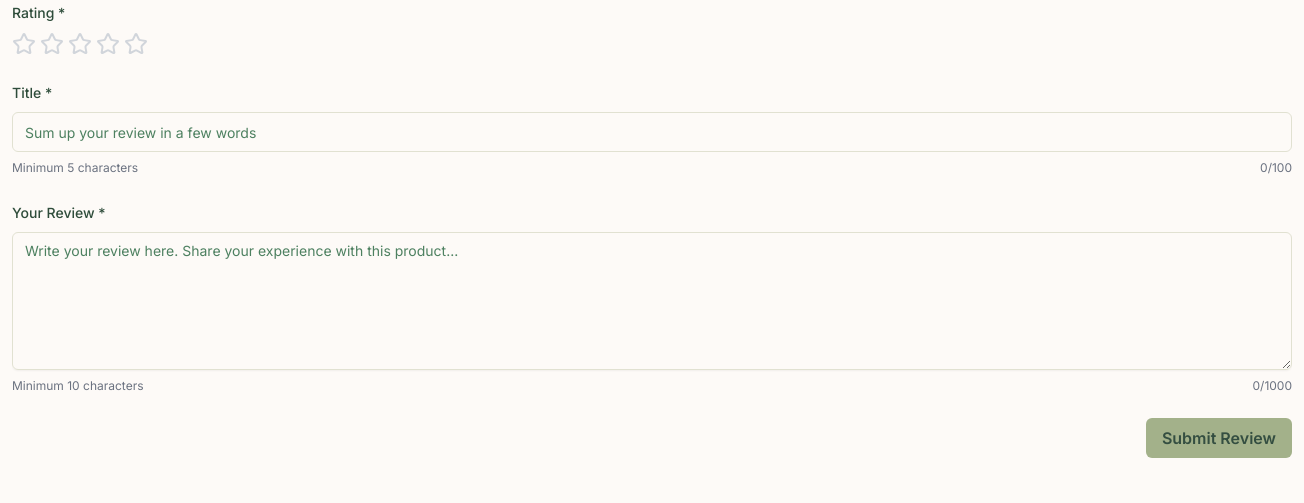
Test: ReviewForm › Create mode › should validate title length
Type "Bad" into the field with placeholder "Sum up your review in a few words" at [652, 132], box x1=12 y1=112 x2=1292 y2=152
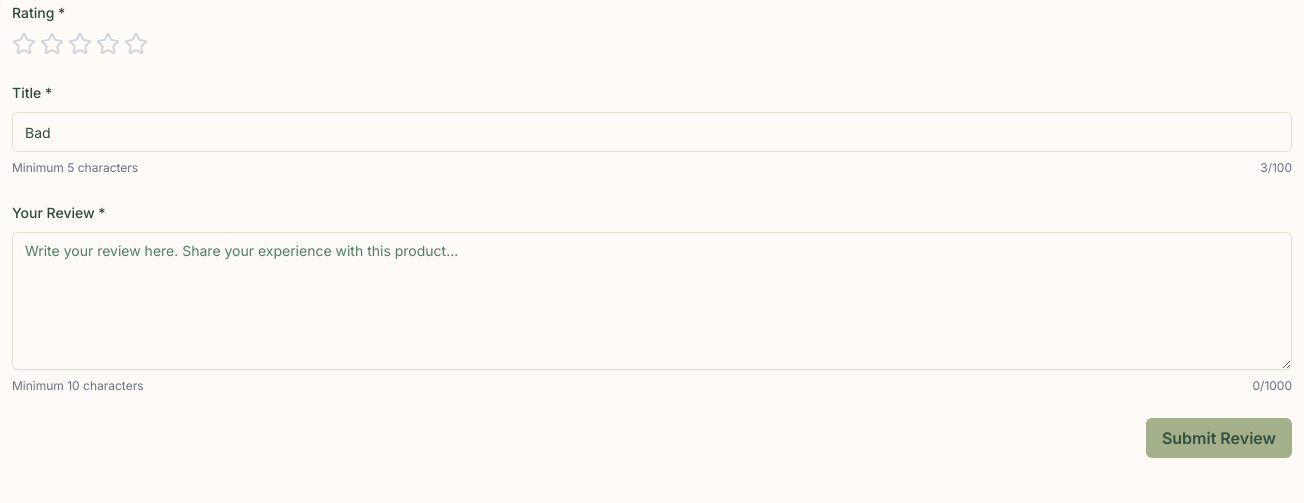
Click the button "Submit Review" at [1219, 438], box x1=1146 y1=418 x2=1292 y2=458
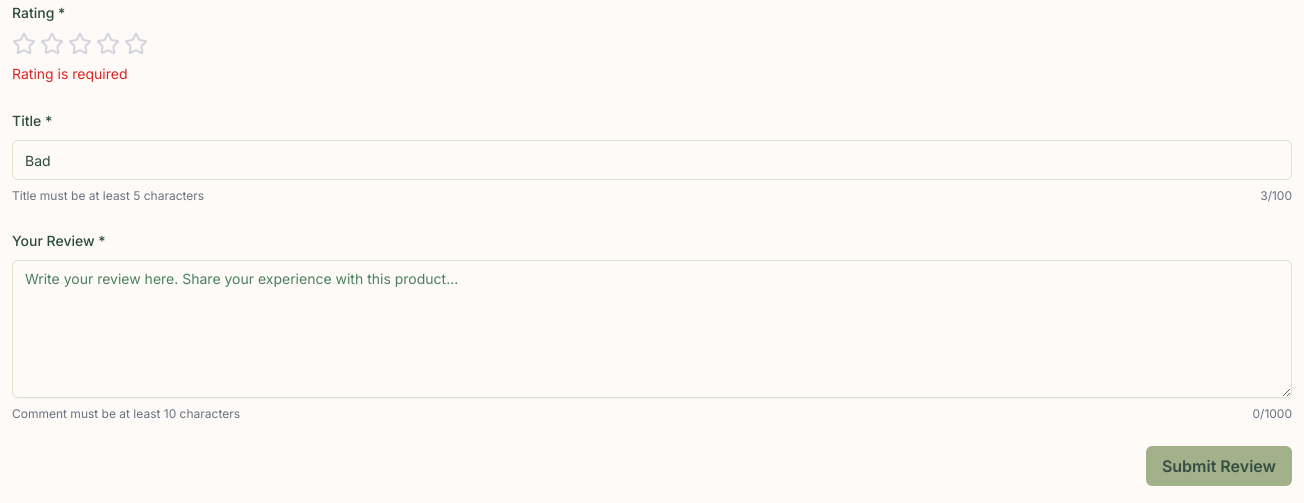
Result: the text "Title must be at least 5 characters" is shown at x1=12 y1=188 x2=204 y2=204
